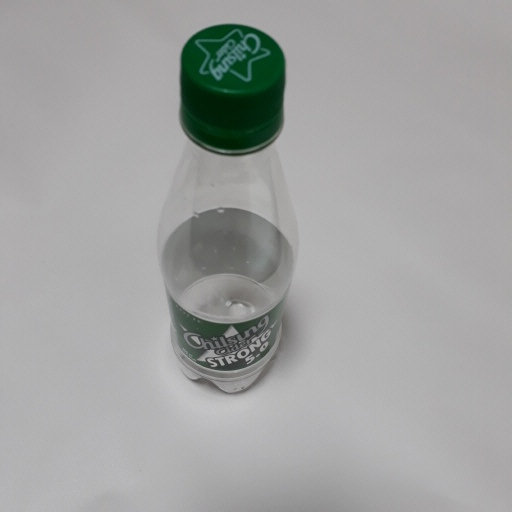Plastic_0: (152, 22, 301, 398)
